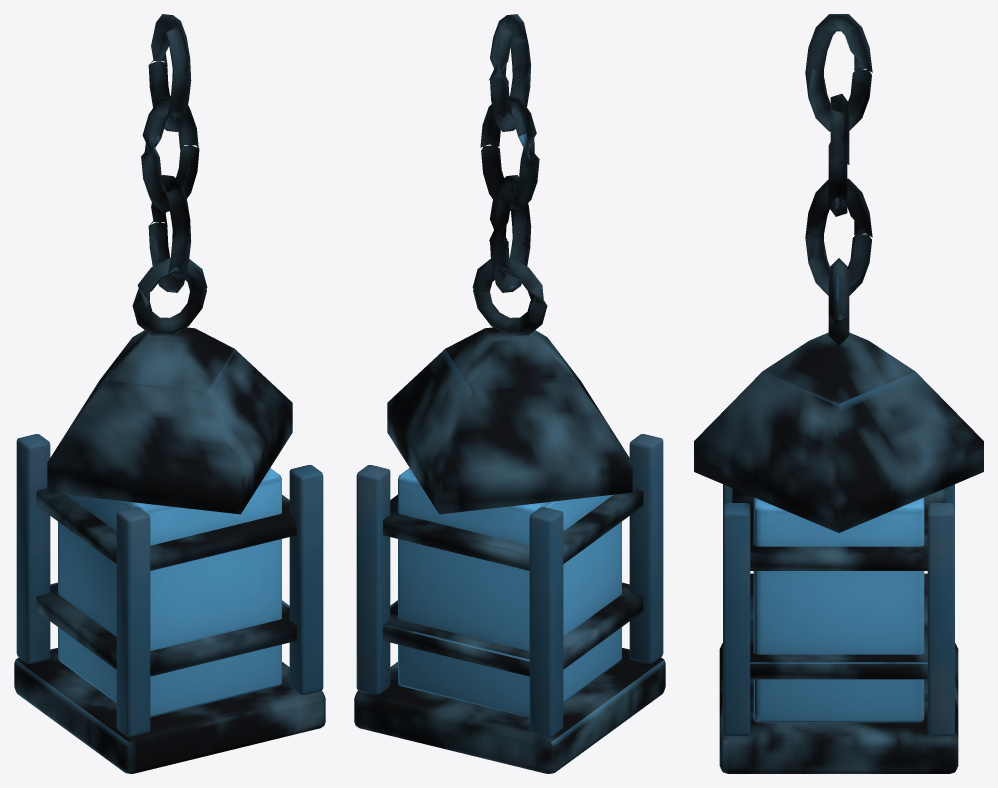
Rendered from rime_lantern.obj.
The picture shows the model from 3 angles, left to right: view 1: azimuth 30°, elevation 25°; view 2: azimuth 150°, elevation 25°; view 3: azimuth 270°, elevation 25°; orthographic projection. The views are drawn at different scales.
Parts seen in each view (by area): view 1: part0, fire, part2; view 2: part0, fire, part2; view 3: part0, fire, part2.
Part boxes in pixels (x1,y1,x2,y2): part0: (14, 14, 325, 773); fire: (58, 468, 281, 717); part2: (16, 434, 323, 737); part0: (354, 14, 665, 773); fire: (398, 468, 621, 717); part2: (356, 434, 663, 737); part0: (694, 14, 983, 773); fire: (753, 497, 924, 722); part2: (723, 484, 954, 735).
Bounding box in the file's own units: 0.34 × 0.9211 × 0.34.
